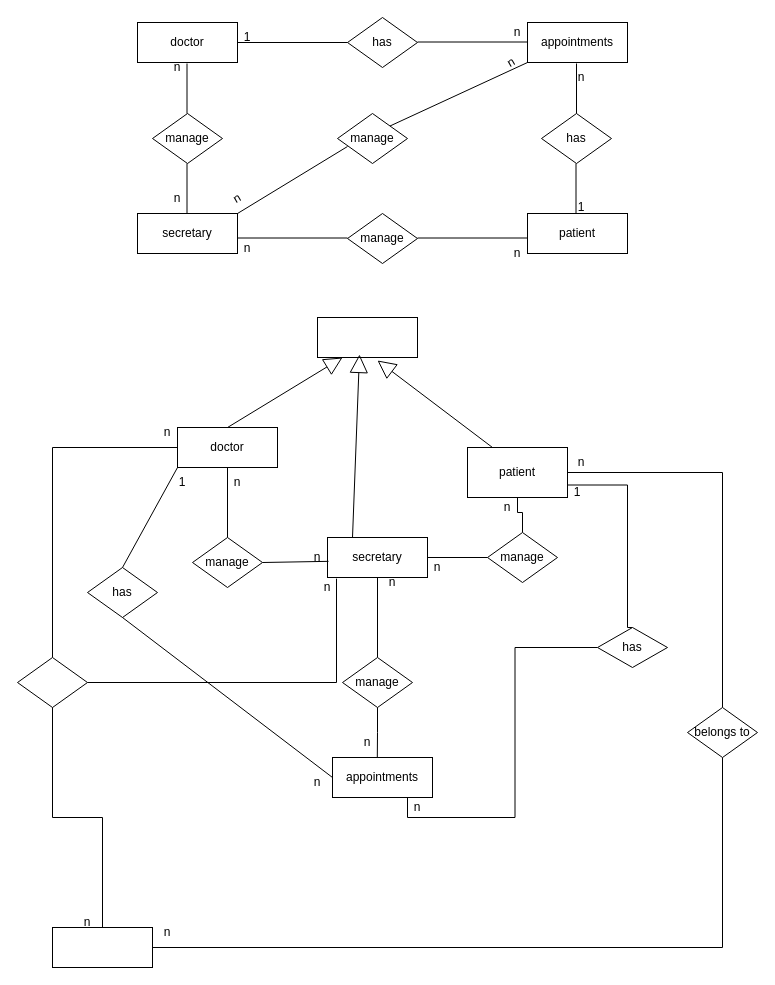
Some shapes in this 775 by 985 pixel diagram are drawn without their labels. Here are the shapes that lost their labels. From the top down, the centre of each, then its label:
At point 367,337: "User".
At point 52,682: "works".
At point 102,947: "Clinic".
